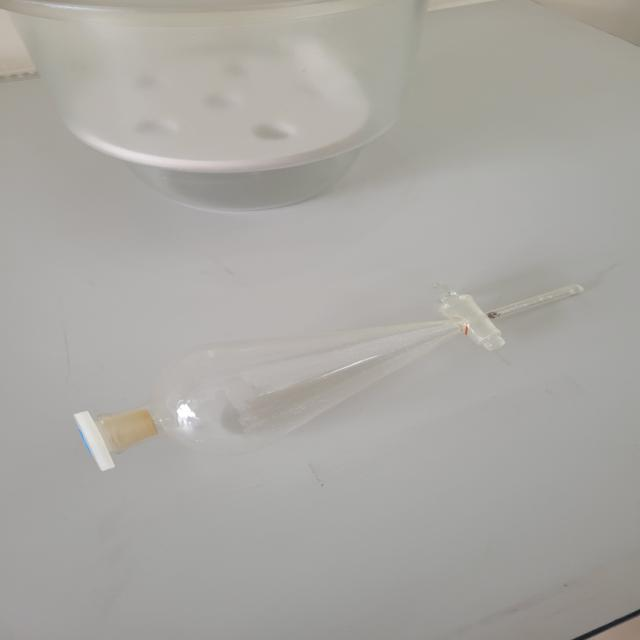Separating_Funnel: (38, 287, 640, 489)
